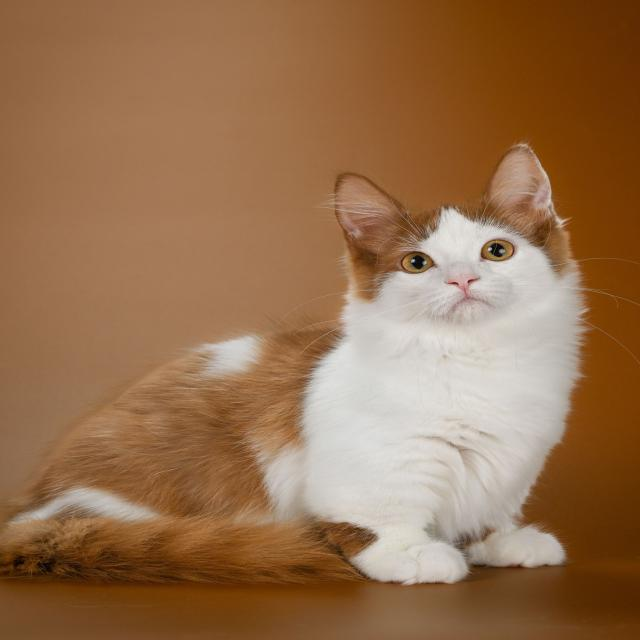Munchkin: (0, 136, 599, 594)
